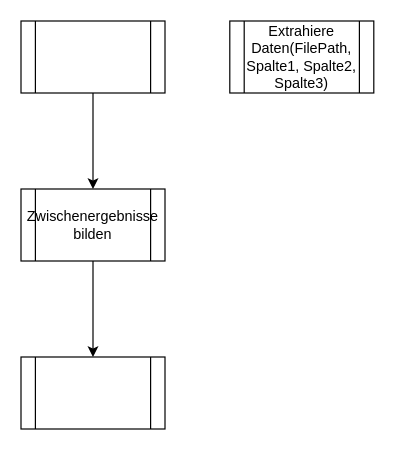
This 395x450 diagram has some shape labels left out. The shapes that lost their labels are listed below. From the top down, each one's centre as x and y in pixels, then its label:
(92,56): Datenset ausfiltern
(92,392): Gesuchtes Kriterium ausgeben
